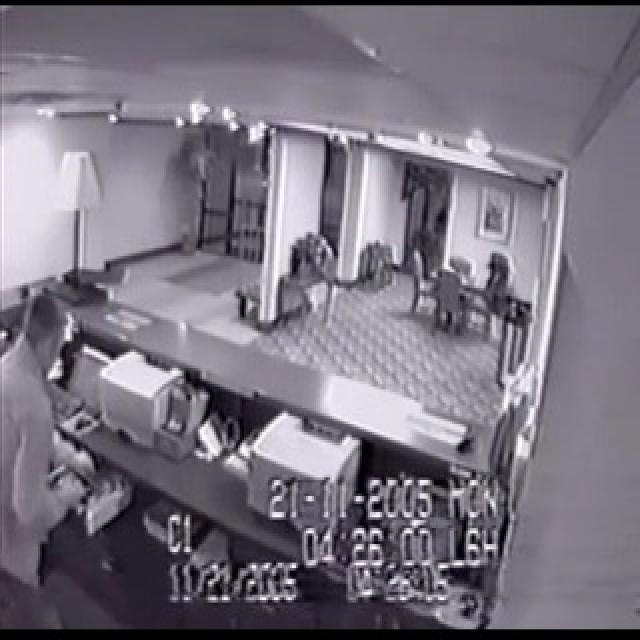thief: (8, 283, 139, 612)
